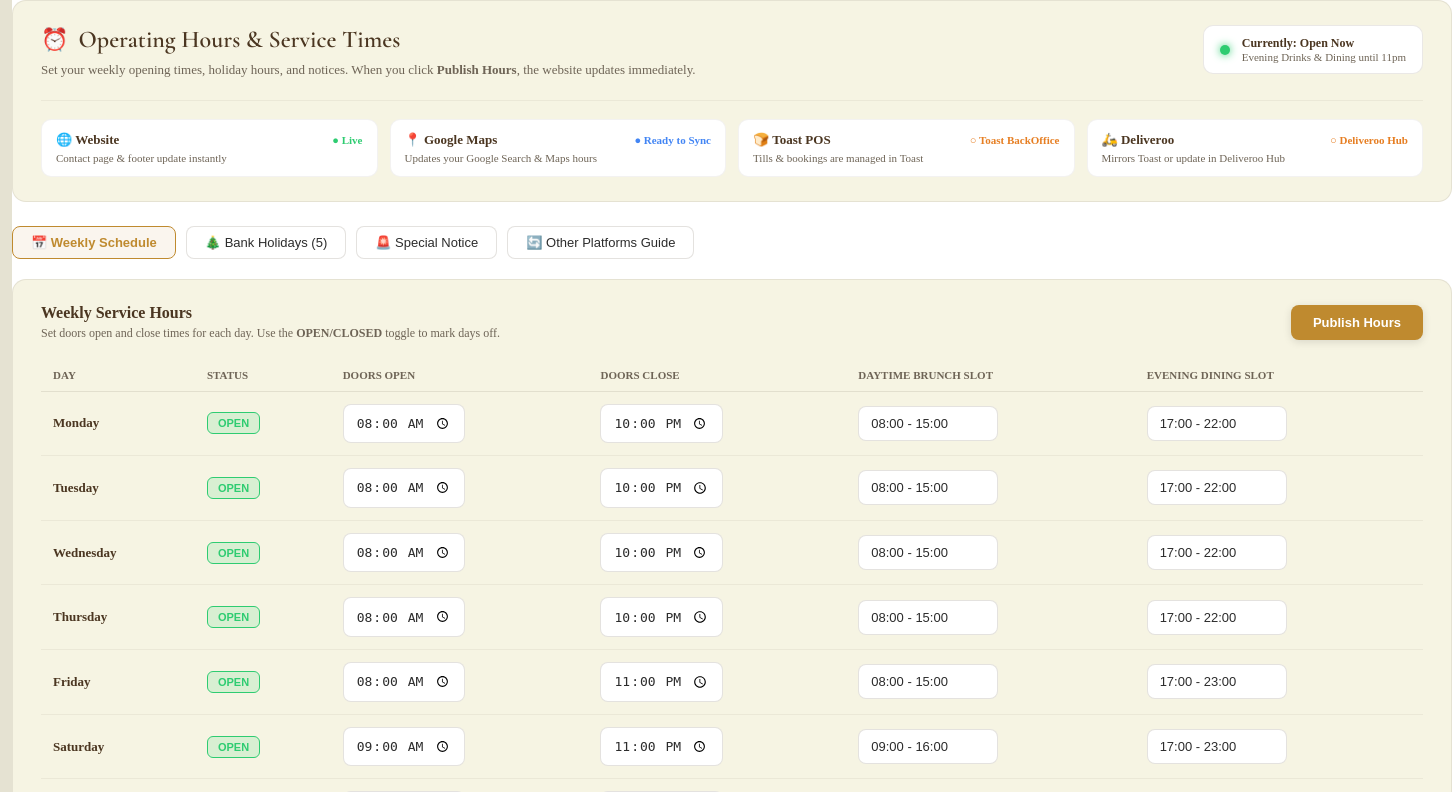
Test: FEATURE-83: Omnichannel Operating Hours & Holiday Schedule Sync › 2. OperatingHoursManager: allows editing weekly hours and toggling open/closed
Expected: the text "Monday" is shown, [41,391,195,456]
Click the button "OPEN" next to "Monday".
click(234, 423)  # box [207,412,260,434]
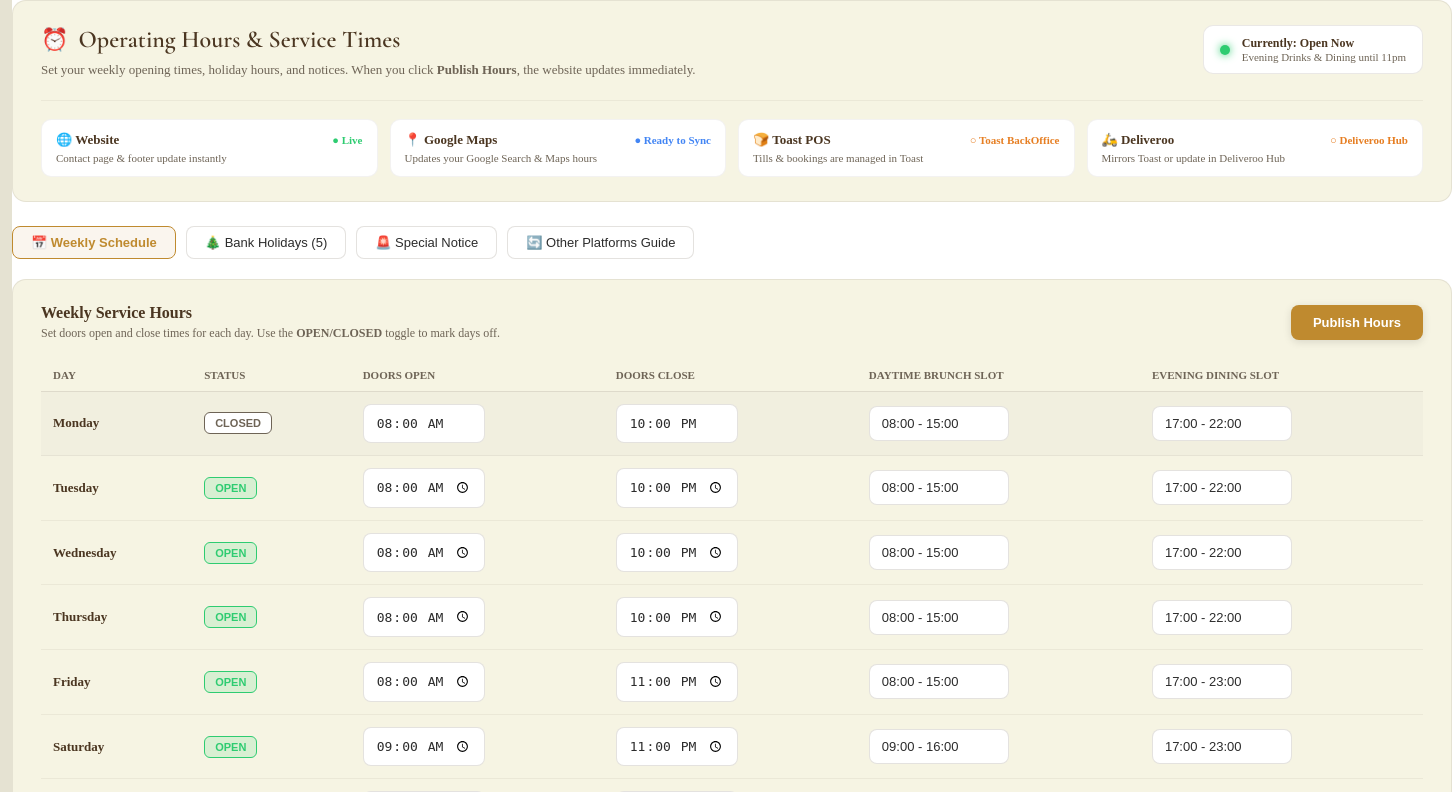
Publish hours
Click the button "Publish Hours".
click(1357, 322)  # box [1291,304,1423,340]
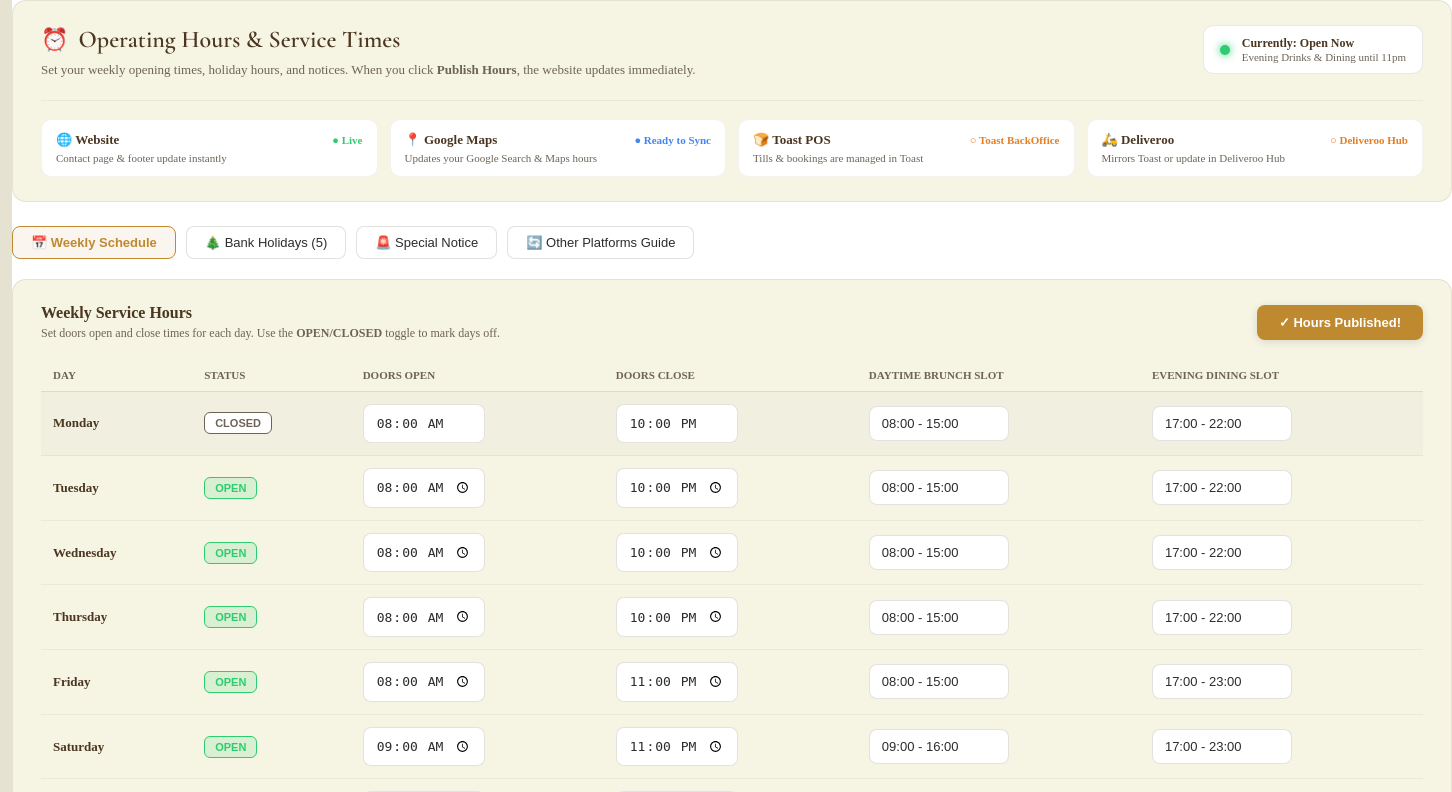
Expected: the button "✓ Hours Published!" is shown, [1257,304,1423,340]
